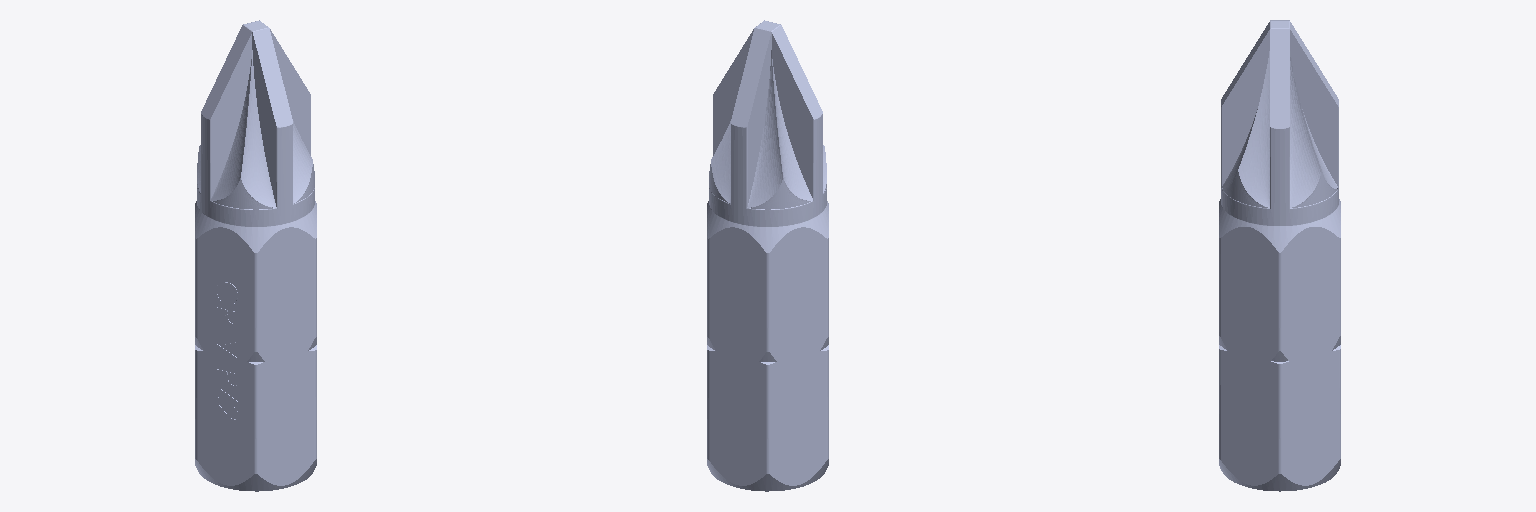
robot.urdf — ScrewdriverBit(PZ2):
<robot
  name="ScrewdriverBit(PZ2)">
  <link
    name="ScrewdriverBit(PZ2)">
    <inertial>
      <origin
        xyz="0 0 0"
        rpy="0 0 0" />
      <mass
        value="0" />
      <inertia
        ixx="0"
        ixy="0"
        ixz="0"
        iyy="0"
        iyz="0"
        izz="0" />
    </inertial>
    <visual>
      <origin
        xyz="0 0 0"
        rpy="0 0 0" />
      <geometry>
        <mesh
          filename="package://rl_gazebo_sim/parts_descriptions/meshes/ScrewdriverBit(PZ2).STL" />
      </geometry>
      <material
        name="">
        <color
          rgba="0.79216 0.81961 0.93333 1" />
      </material>
    </visual>
    <collision>
      <origin
        xyz="0 0 0"
        rpy="0 0 0" />
      <geometry>
        <mesh
          filename="package://rl_gazebo_sim/parts_descriptions/meshes/ScrewdriverBit(PZ2).STL" />
      </geometry>
    </collision>
  </link>
</robot>

--- What the picture shows (computed from the rendered views, not written in the file) ---
3 views of the same robot in one strip: view 1: azimuth 30°, elevation 25°; view 2: azimuth 150°, elevation 25°; view 3: azimuth 270°, elevation 25° (orthographic).
Robot: ScrewdriverBit(PZ2) — 1 links, 0 joints (none); root link ScrewdriverBit(PZ2); default pose: all joints at 0.
Visible links, largest first — view 1: ScrewdriverBit(PZ2); view 2: ScrewdriverBit(PZ2); view 3: ScrewdriverBit(PZ2).
Link boxes in pixels (bbox=[...]): ScrewdriverBit(PZ2): bbox=[195, 20, 316, 491]; ScrewdriverBit(PZ2): bbox=[707, 20, 828, 491]; ScrewdriverBit(PZ2): bbox=[1219, 20, 1340, 491].
Size in the robot's own frame: 0.0071 by 0.0063 by 0.025 metres.
1 mesh visuals loaded from 1 distinct referenced files (1 binary STL).